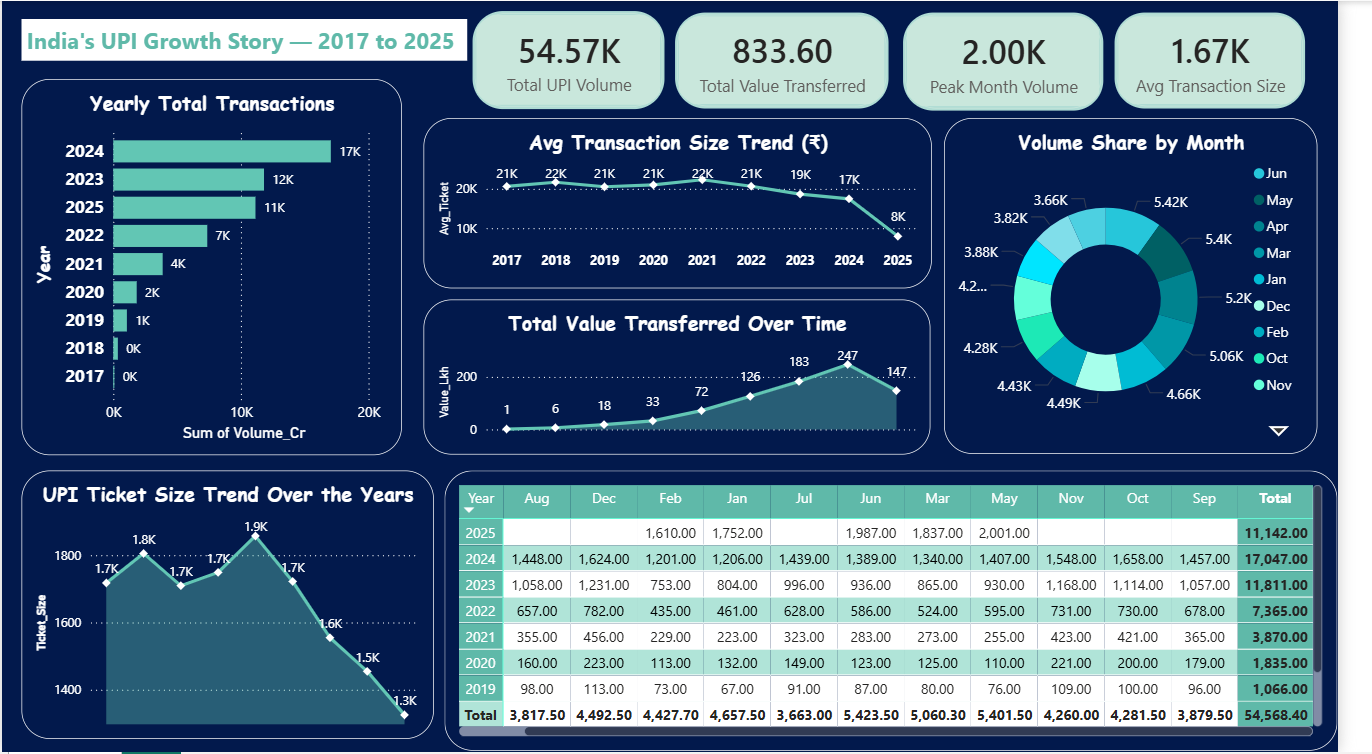

The dashboard page shown, as its layout file describes it:
{"tool":"powerbi","page":{"name":"Page 1","canvas":[1280,720],"ordinal":0},"visuals":[{"type":"cardVisual","title":"Total UPI Volume (Crore)","fields":{"Data":["Sum(upi_data_clean.Volume_Cr)"]},"box":[445.8,4.3,194.1,105],"z":0},{"type":"cardVisual","fields":{"Data":["Sum(upi_data_clean.Value_LakhCr)"]},"box":[640.5,6.1,215,103],"z":1000},{"type":"cardVisual","fields":{"Data":["Max(upi_data_clean.Volume_Cr)"]},"box":[858.6,6.1,202.9,104.5],"z":2000},{"type":"cardVisual","fields":{"Data":["Avg(upi_data_clean.Avg_Ticket_Size_Rs)"]},"box":[1061.5,6.1,193.8,103],"z":3000},{"type":"clusteredBarChart","title":"Yearly Total Transactions","fields":{"Category":["upi_data_clean.Year"],"Y":["Sum(upi_data_clean.Volume_Cr)"]},"box":[18.2,74.2,364.9,360.4],"z":4000},{"type":"lineChart","title":"UPI Ticket Size Trend Over the Years","fields":{"Y":["Avg(upi_data_clean.Avg_Ticket_Size_Rs)"],"Category":["upi_data_clean.Date.Variation.Date Hierarchy.Year"]},"box":[18.7,450.1,395.5,257.4],"z":5000},{"type":"areaChart","title":"Total Value Transferred Over Time","fields":{"Category":["upi_data_clean.Date.Variation.Date Hierarchy.Year","upi_data_clean.Date.Variation.Date Hierarchy.Quarter","upi_data_clean.Date.Variation.Date Hierarchy.Month","upi_data_clean.Date.Variation.Date Hierarchy.Day"],"Y":["Sum(upi_data_clean.Value_LakhCr)"]},"box":[404.3,286.2,486.1,148.4],"z":6000},{"type":"donutChart","title":"Volume Share by Month","fields":{"Category":["upi_data_clean.Month"],"Y":["Sum(upi_data_clean.Volume_Cr)"]},"box":[903.1,112.2,358.1,322.1],"z":7000},{"type":"pivotTable","fields":{"Rows":["upi_data_clean.Year"],"Columns":["upi_data_clean.Month"],"Values":["Sum(upi_data_clean.Volume_Cr)"]},"box":[424.2,450.1,855.7,268.9],"z":8000},{"type":"lineChart","title":"Avg Transaction Size Trend (₹)","fields":{"Category":["upi_data_clean.Date.Variation.Date Hierarchy.Year","upi_data_clean.Date.Variation.Date Hierarchy.Quarter"],"Y":["Sum(upi_data_clean.Avg_Ticket_Size_Rs)"]},"box":[404.3,112.1,487.6,163.5],"z":9000},{"type":"textbox","box":[18.7,17.3,427.1,40.3],"z":9001}]}

Visuals, with their boxes in screenshot pixels (x1, y1, x2, y2), scaled from the page's 1280x720 canvas onto the 1372x754 screenshot:
"Total UPI Volume (Crore)" cardVisual: 478/5/686/114
cardVisual - Sum(upi_data_clean.Value_LakhCr): 687/6/917/114
cardVisual - Max(upi_data_clean.Volume_Cr): 920/6/1138/116
cardVisual - Avg(upi_data_clean.Avg_Ticket_Size_Rs): 1138/6/1346/114
"Yearly Total Transactions" clusteredBarChart: 20/78/411/455
"UPI Ticket Size Trend Over the Years" lineChart: 20/471/444/741
"Total Value Transferred Over Time" areaChart: 433/300/954/455
"Volume Share by Month" donutChart: 968/117/1352/455
pivotTable - upi_data_clean.Year x upi_data_clean.Month: 455/471/1371/753
"Avg Transaction Size Trend (₹)" lineChart: 433/117/956/289
textbox: 20/18/478/60
